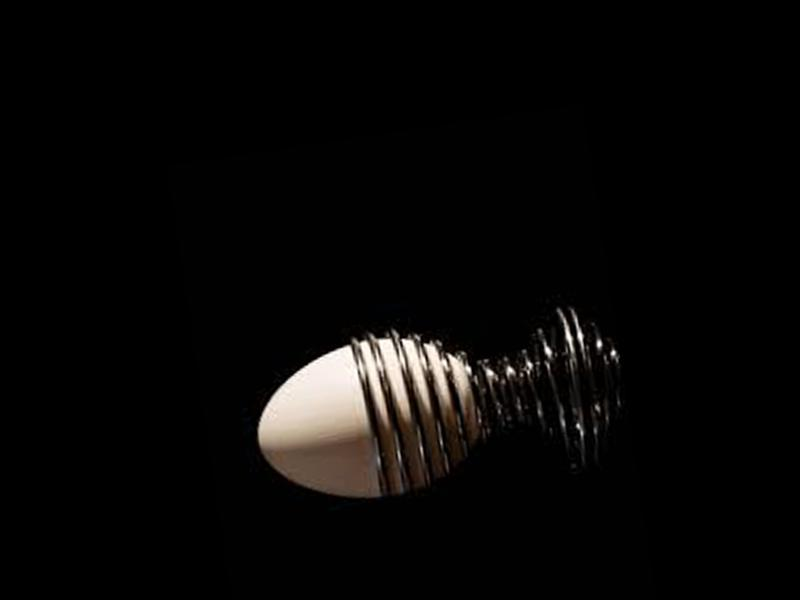Eggs: (244, 325, 487, 512)
